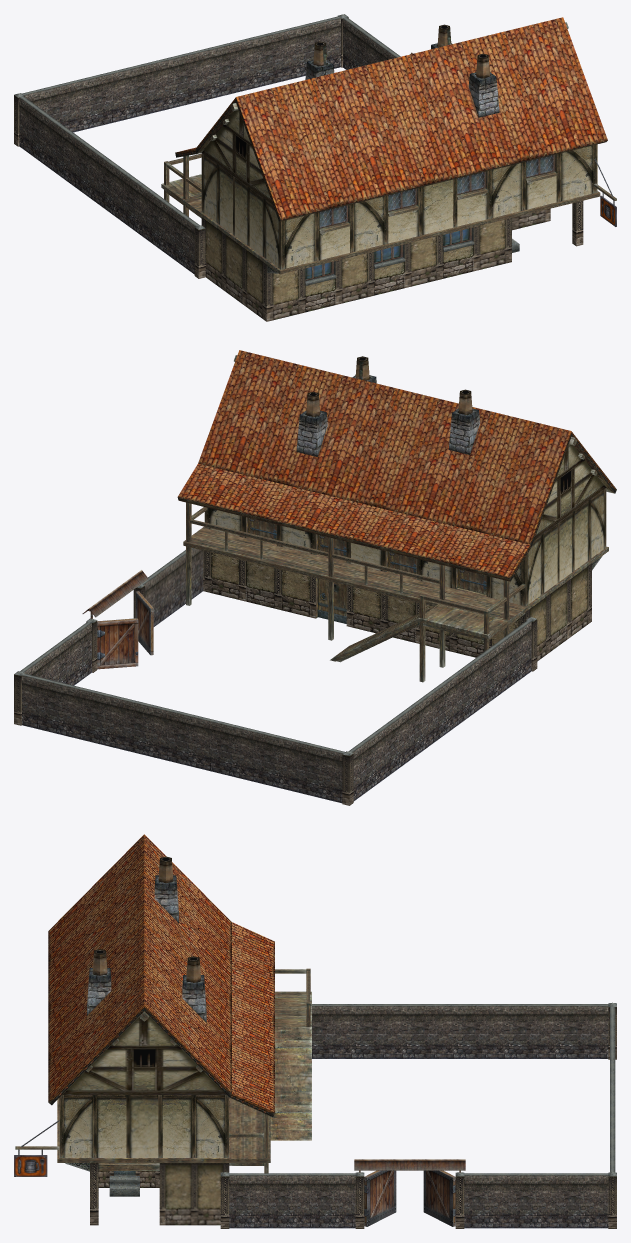
Rendered from MHOUSE6.glb.
3 views of the same model, one above another, from view 1: azimuth 30°, elevation 25°; view 2: azimuth 150°, elevation 25°; view 3: azimuth 270°, elevation 25° (orthographic). The views are drawn at different scales.
Visible parts, largest first — view 1: MHOUSE6-col; view 2: MHOUSE6-col; view 3: MHOUSE6-col.
Boxes of the visible parts, x1=… form: MHOUSE6-col: x1=14, y1=14, x2=616, y2=321; MHOUSE6-col: x1=14, y1=350, x2=616, y2=805; MHOUSE6-col: x1=14, y1=834, x2=616, y2=1228.
Bounding box in the file's own units: 19.08 × 12.5 × 27.69.
22 materials, 22 textured.
